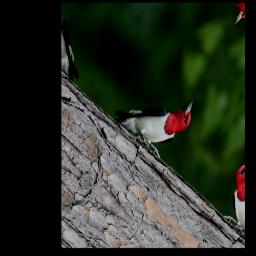Woodpecker: (110, 55, 201, 171)
